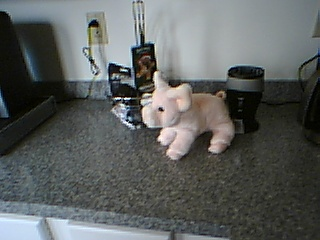piggy: (141, 70, 236, 161)
